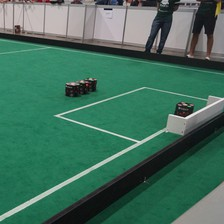goal: (164, 93, 224, 137)
robot: (174, 100, 195, 118), (63, 80, 79, 98), (78, 78, 90, 96), (89, 76, 98, 93)
